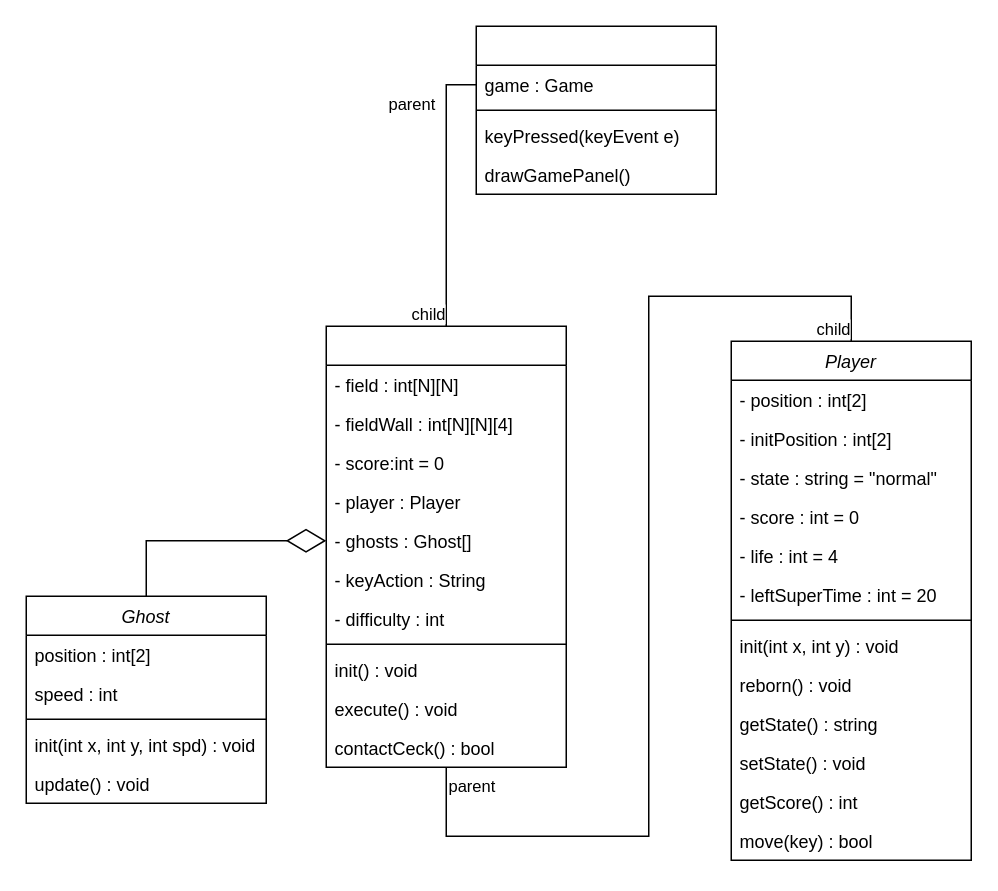
Image size: 998x891. Some labels were removed from this diagram. The shapes that lost their labels are listed below. From the top down, each one's box as (x1, y1, x2, y2) in pixels, then its label:
(475, 25, 716, 194): GUIScreen
(325, 325, 566, 767): Game
